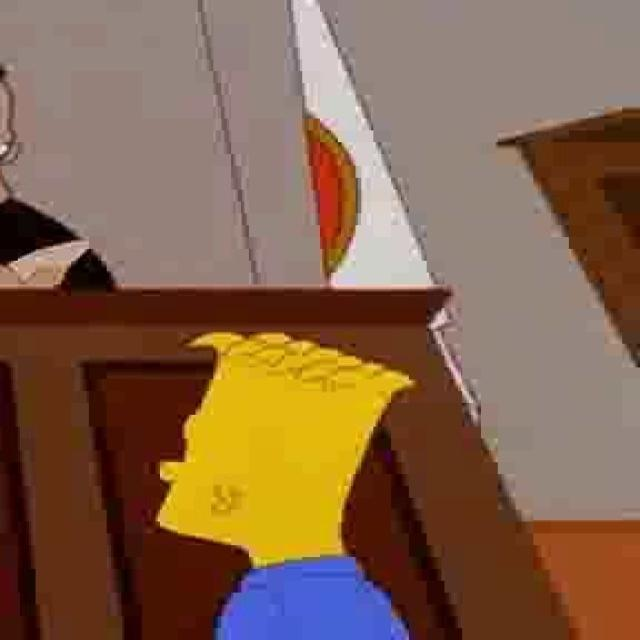Bart Simpson: (151, 327, 418, 568)
